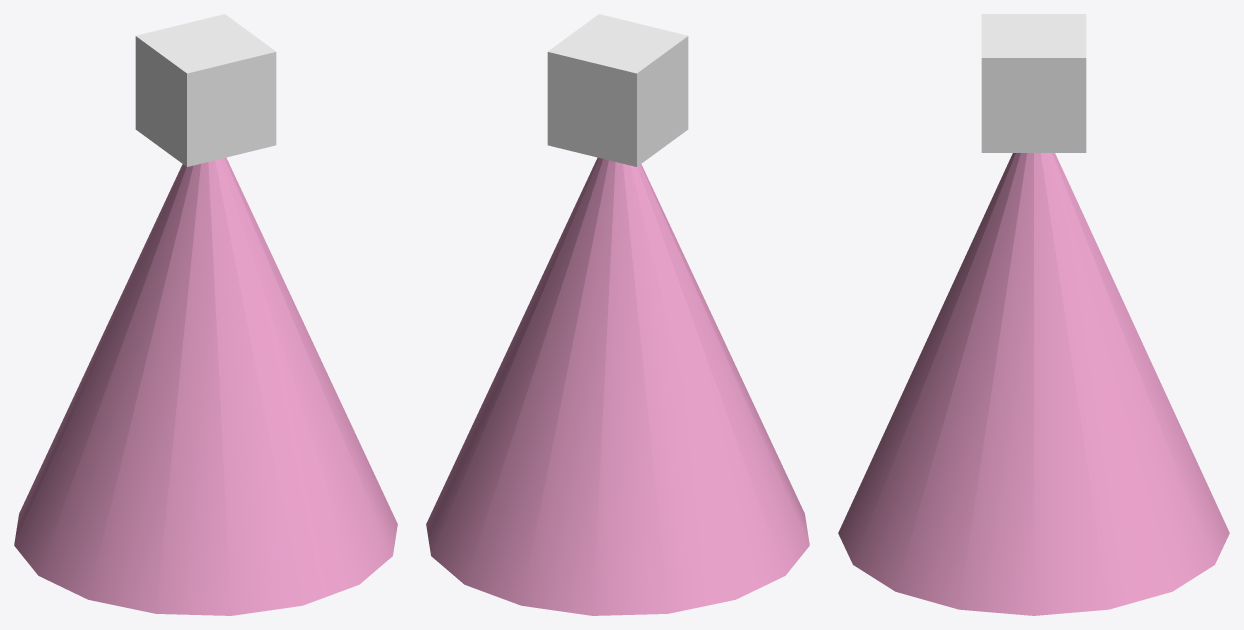
Rendered from hat_party.gltf.
3 views of the same model, side by side, from view 1: azimuth 30°, elevation 25°; view 2: azimuth 150°, elevation 25°; view 3: azimuth 270°, elevation 25° (orthographic).
Visible parts, largest first — view 1: hat_party; view 2: hat_party; view 3: hat_party.
Boxes of the visible parts, x1,y1,x2,y2 form: hat_party: [14, 14, 397, 615]; hat_party: [426, 14, 809, 615]; hat_party: [838, 14, 1229, 615].
Size of the model in its own units: 0.3 by 0.42 by 0.3.
